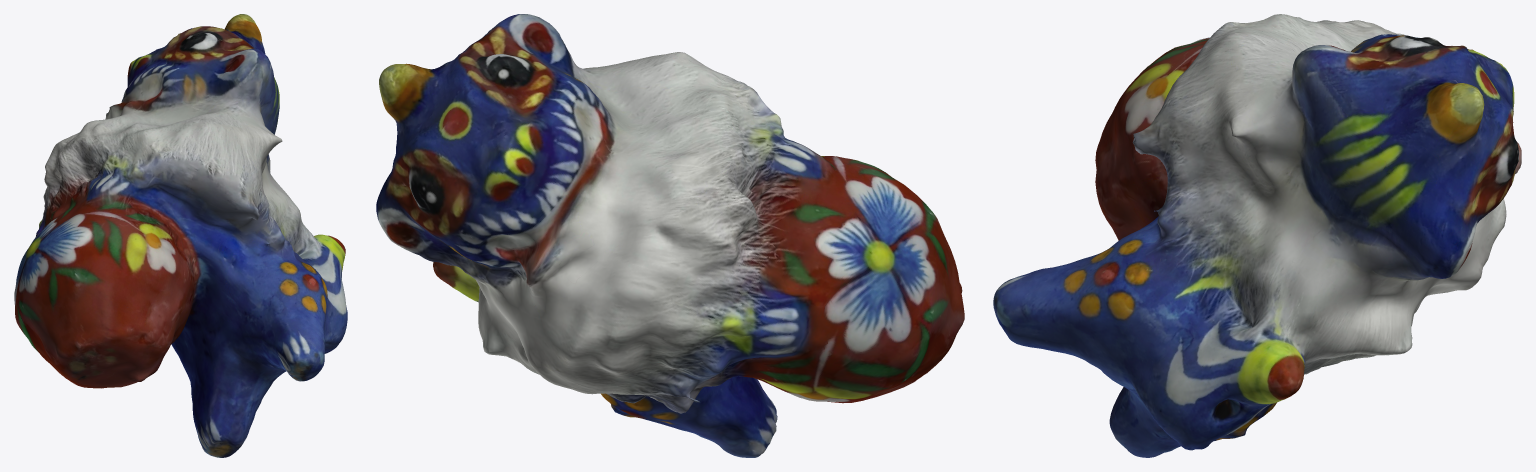
The picture shows the model from 3 angles, left to right: view 1: azimuth 30°, elevation 25°; view 2: azimuth 150°, elevation 25°; view 3: azimuth 270°, elevation 25°; orthographic projection. The views are drawn at different scales.
Size of the model in its own units: 0.5468 by 0.5178 by 0.5238.
1 material, 1 textured.
